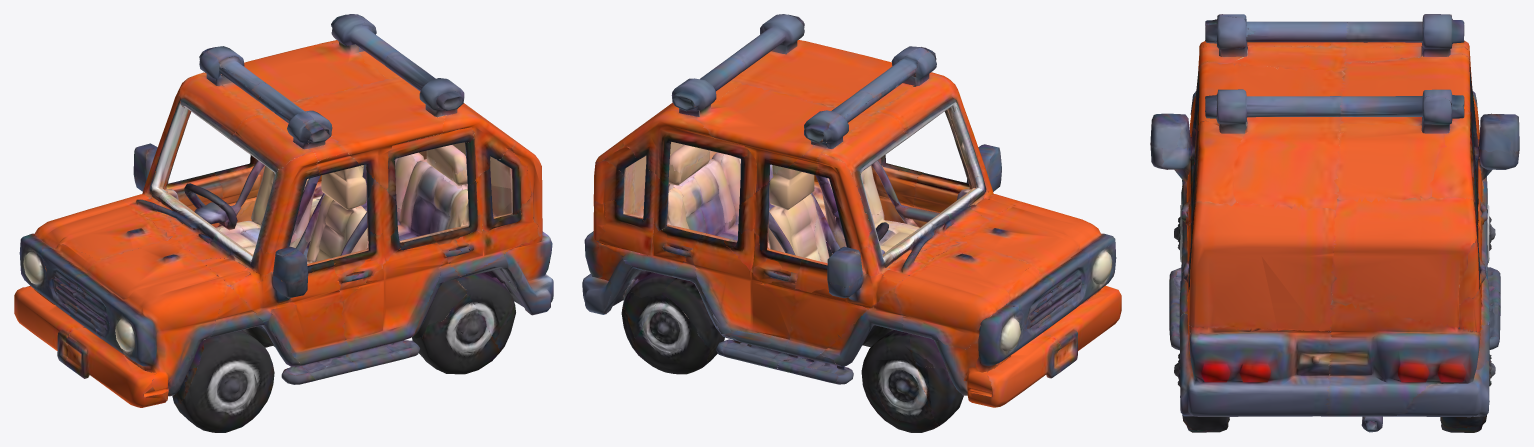
File: Meshy_AI_Orange_Explorer_SUV_0811060059_texture.glb
3 renders of one model, left to right at view 1: azimuth 30°, elevation 25°; view 2: azimuth 150°, elevation 25°; view 3: azimuth 270°, elevation 25°, orthographic. The views are drawn at different scales.
Visible parts, largest first — view 1: mesh_node; view 2: mesh_node; view 3: mesh_node.
Boxes of the visible parts, x1,y1,x2,y2 form: mesh_node: (14,14,553,432); mesh_node: (582,14,1121,432); mesh_node: (1150,14,1519,432).
Bounding box in the file's own units: 2 × 1.27 × 1.29.
Materials: 1 (1 with a texture image).
